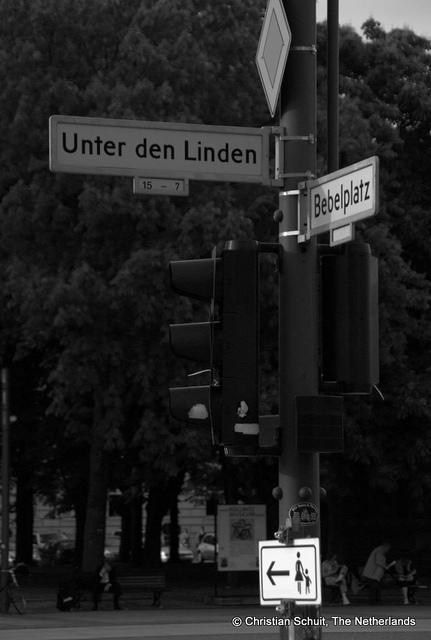bicycle: (0, 563, 27, 615)
car: (36, 530, 72, 564), (161, 536, 194, 562), (196, 531, 218, 562), (103, 534, 122, 564)
